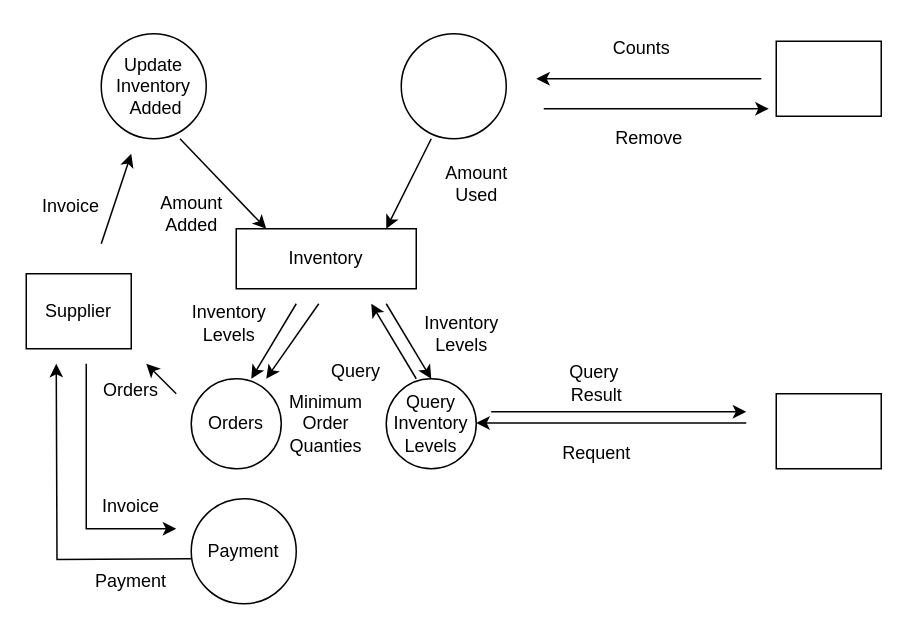
The diagram is 908 pixels wide and 630 high, and some of its shapes have lost their labels. The shapes that lost their labels are listed below. From the top down, each one's centre as x and y in pixels, then its label:
At point 453,85: "Update Inventory Used".
At point 828,78: "Stock-on-Hand".
At point 828,430: "Manger".
